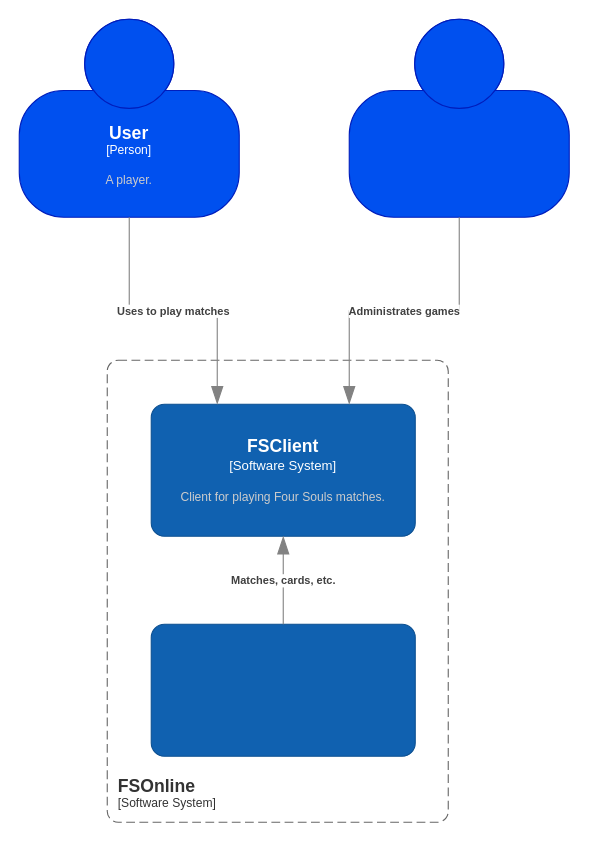
Image size: 589x842. Some labels were removed from this diagram. The centre of each missing label's shape, as x and y in pixels:
"Administrator [Person] Game administrator." goes at point 458,117.
"FSBackend [Software System] Four Souls backend." goes at point 282,689.
